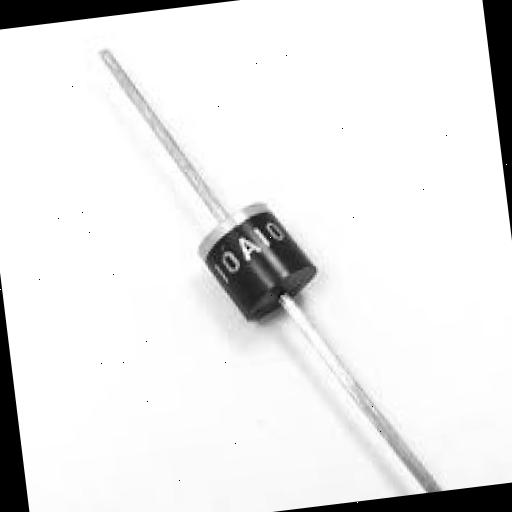DIODE: (142, 149, 400, 353)
